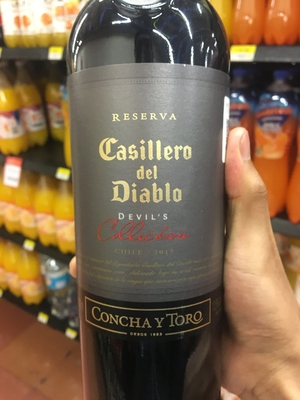casillero del diablo devils collection rojo: (67, 4, 228, 400)
